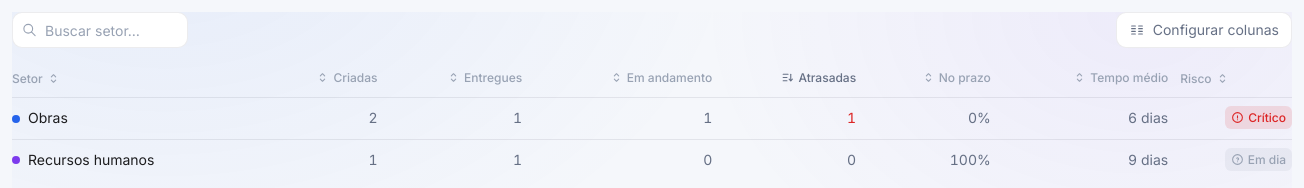
Test: SectorDetailTable › a busca filtra as linhas
In the search field: [100, 30] box [12,12,188,48], type "recursos"
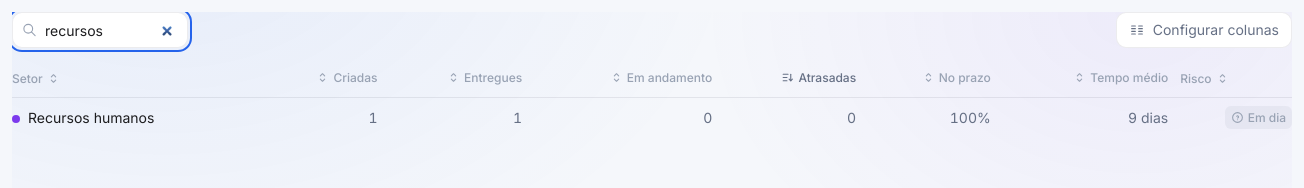
Expected: the text "Recursos humanos" is shown, [28,107,154,130]
Now the button "Obras" is gone
